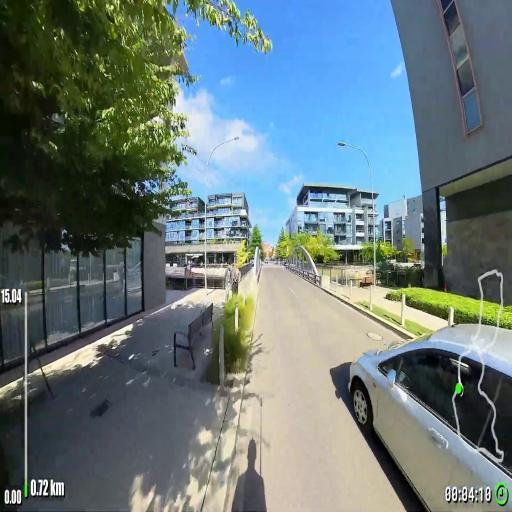Street_Light: (336, 136, 378, 289), (202, 130, 242, 290)
